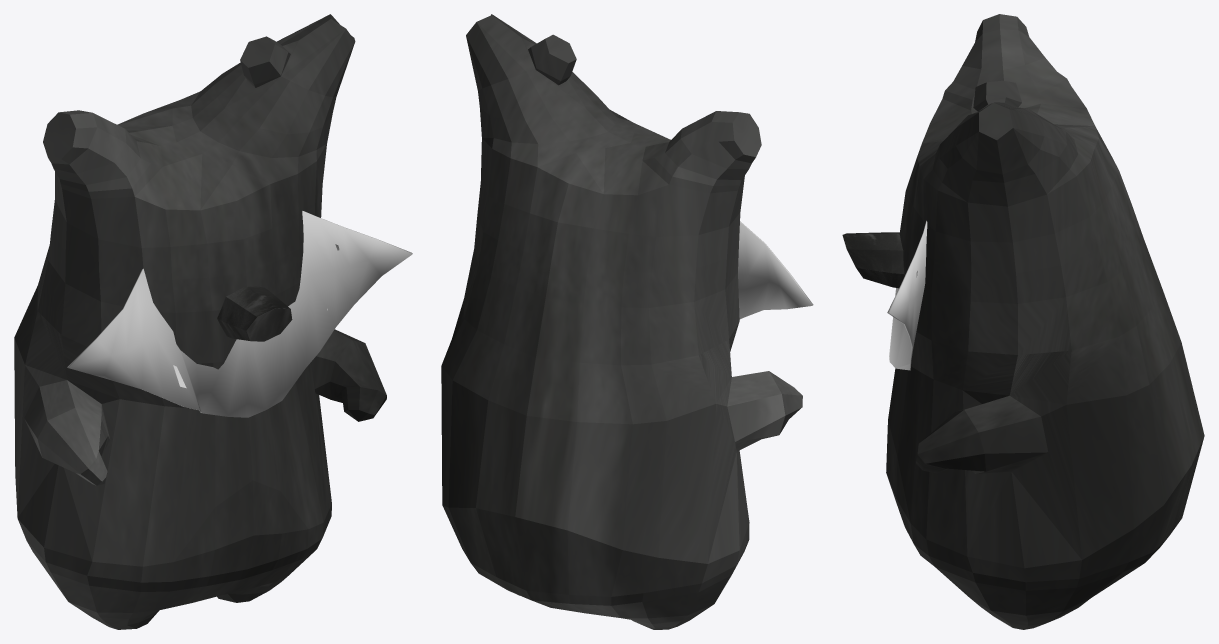
Rendered from frame_0008.obj.
The picture shows the model from 3 angles, left to right: view 1: azimuth 30°, elevation 25°; view 2: azimuth 150°, elevation 25°; view 3: azimuth 270°, elevation 25°; orthographic projection. The views are drawn at different scales.
Parts seen in each view (by area): view 1: korok, leaf, nose; view 2: korok, leaf; view 3: korok, leaf, nose.
Part boxes in pixels (x1,y1,x2,y2): korok: (14,14,386,629); leaf: (67,211,412,417); nose: (217,285,292,341); korok: (441,14,802,629); leaf: (738,221,813,319); korok: (886,14,1204,629); leaf: (887,220,927,370); nose: (842,232,904,288).
Bounding box in the file's own units: 1.36 × 2.25 × 1.32.
